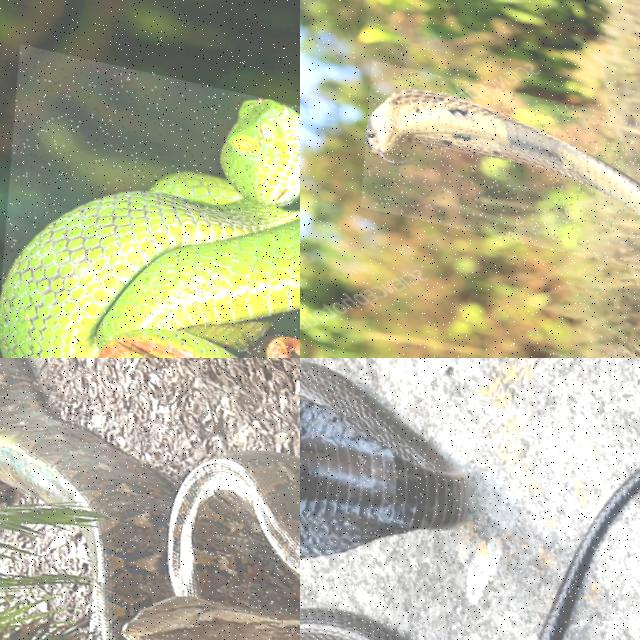Malayopython reticulatus: (0, 358, 299, 639)
Naja kaouthia: (367, 90, 639, 214), (300, 364, 468, 556)
Trimeresurus macrops: (0, 100, 299, 357)
